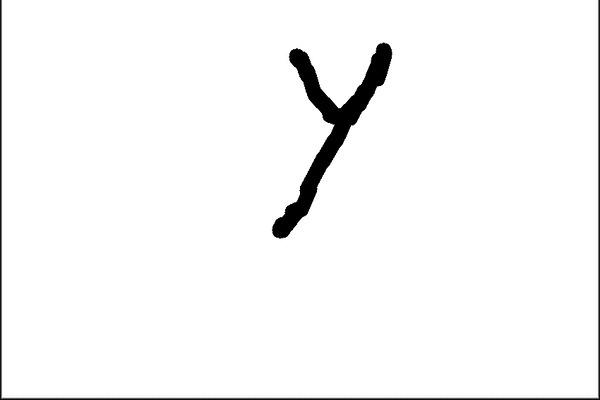Y: (261, 31, 409, 242)
